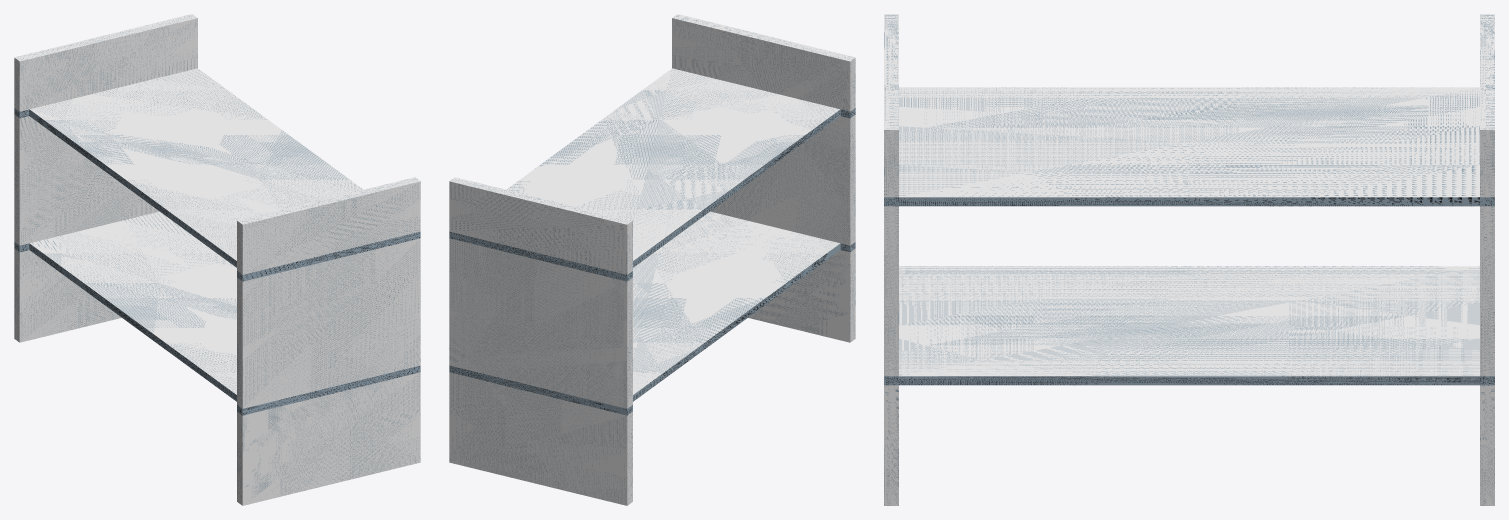
The model's file is polka.fbx.
3 views of the same model, side by side, from view 1: azimuth 30°, elevation 25°; view 2: azimuth 150°, elevation 25°; view 3: azimuth 270°, elevation 25° (orthographic). The views are drawn at different scales.
Parts seen in each view (by area): view 1: Model; view 2: Model; view 3: Model.
Part boxes in pixels (<box>): Model: <box>14,14,420,505</box>; Model: <box>449,14,855,505</box>; Model: <box>884,14,1494,505</box>.
Size of the model in its own units: 0.55 by 0.83 by 1.22.
